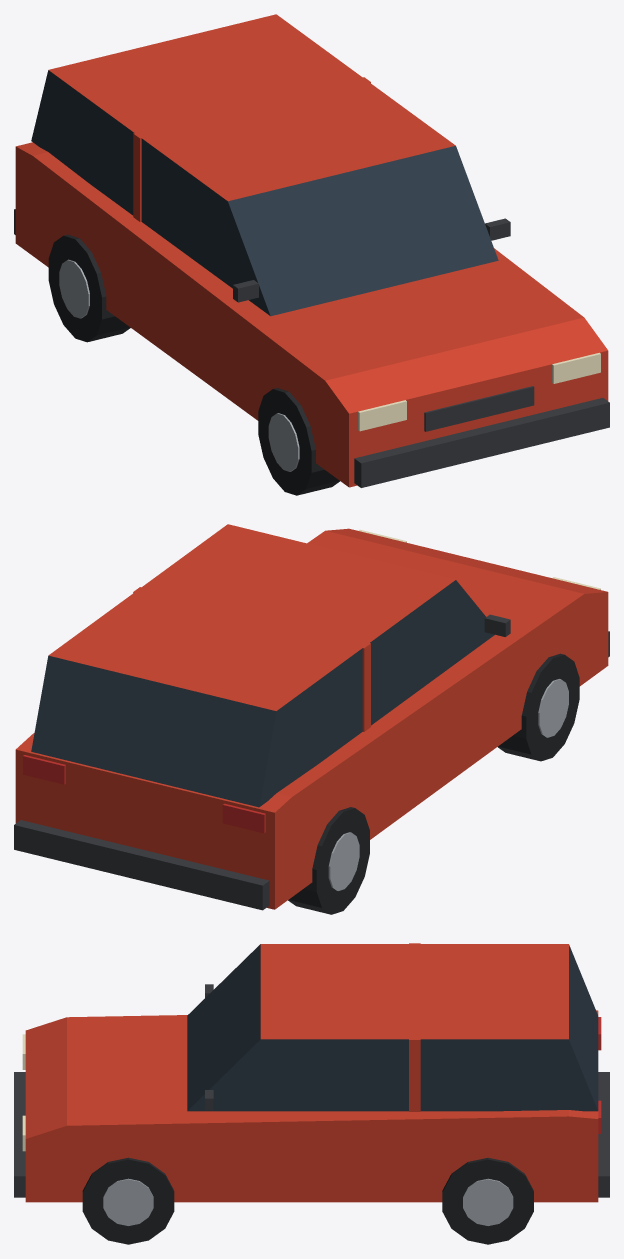
File: hatchback.glb
The picture shows the model from 3 angles, top to bottom: view 1: azimuth 30°, elevation 25°; view 2: azimuth 150°, elevation 25°; view 3: azimuth 270°, elevation 25°; orthographic projection. The views are drawn at different scales.
Parts seen in each view (by area): view 1: Body, Wheel_RR, Wheel_FR; view 2: Body, Wheel_FR, Wheel_RR; view 3: Body, Wheel_FL, Wheel_RL.
Part boxes in pixels (x1,y1,x2,y2): Body: [14, 14, 609, 487]; Wheel_RR: [48, 234, 130, 342]; Wheel_FR: [258, 388, 339, 495]; Body: [14, 524, 609, 910]; Wheel_FR: [498, 653, 579, 761]; Wheel_RR: [288, 807, 369, 914]; Body: [14, 943, 609, 1202]; Wheel_FL: [82, 1157, 174, 1244]; Wheel_RL: [442, 1157, 533, 1244].
Bounding box in the file's own units: 1.84 × 1.48 × 4.06.
